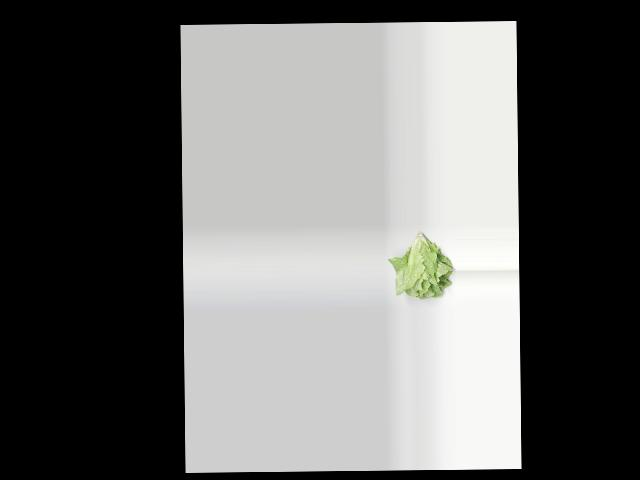lettuce: (388, 230, 453, 300)
